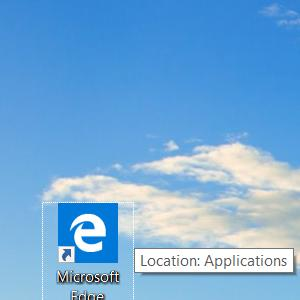edge: (58, 203, 118, 263)
